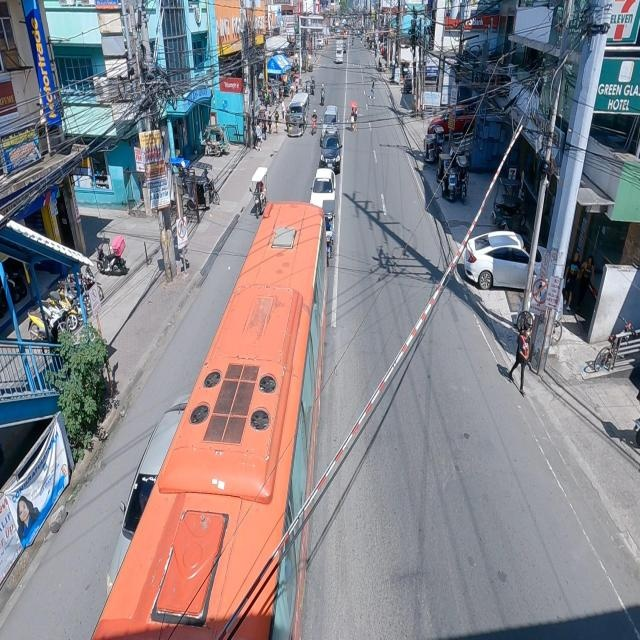Bus: (89, 203, 334, 640)
